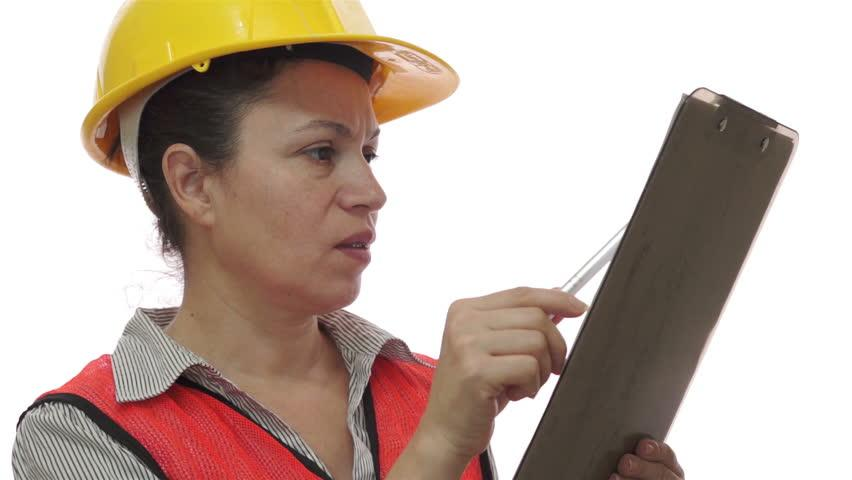helmet: (80, 1, 464, 183)
